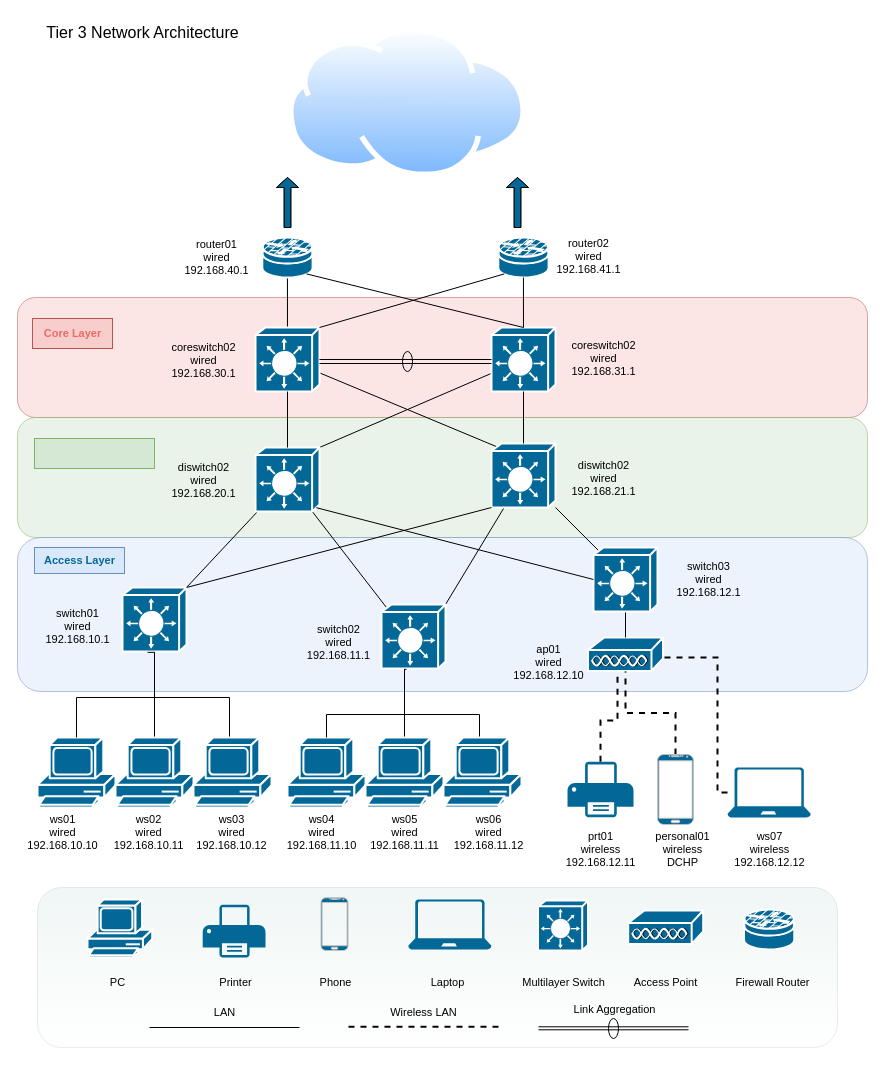
Image size: 885x1065. Some labels were removed from this diagram. The centre of each missing label's shape, as x and y in pixels:
"Distribution Layer" goes at point (94, 453).
"WAN ISP" goes at point (407, 102).
